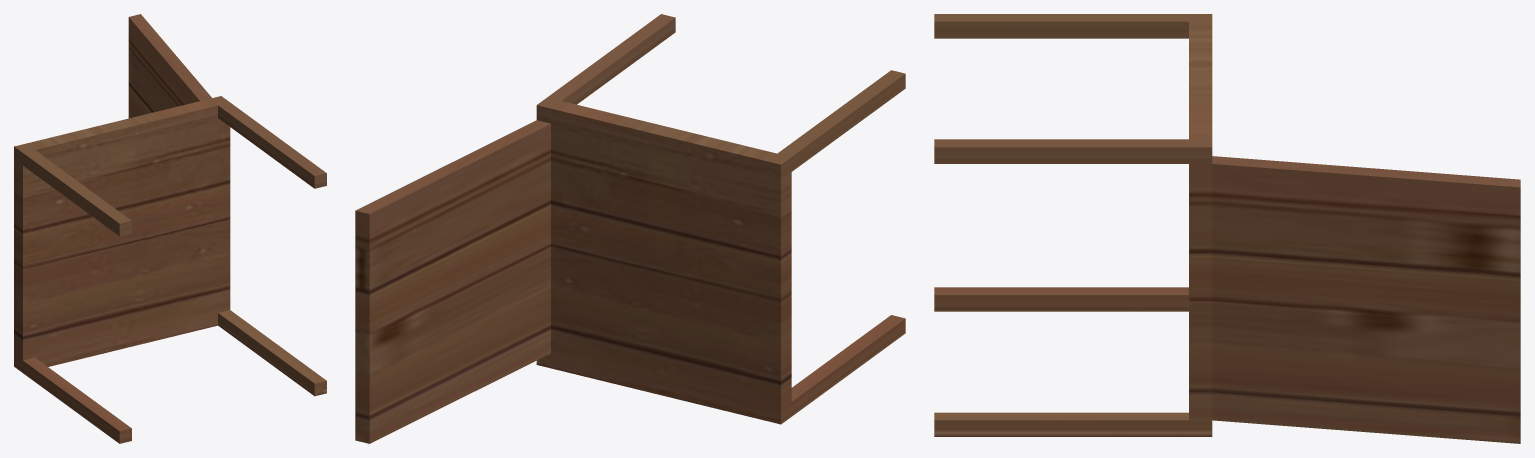
File: store-wood-chair.fbx
The picture shows the model from 3 angles, left to right: view 1: azimuth 30°, elevation 25°; view 2: azimuth 150°, elevation 25°; view 3: azimuth 270°, elevation 25°; orthographic projection. The views are drawn at different scales.
Parts seen in each view (by area): view 1: store-wood-chair; view 2: store-wood-chair; view 3: store-wood-chair.
Boxes of the visible parts, x1,y1,x2,y2 form: store-wood-chair: (14, 14, 326, 443); store-wood-chair: (355, 14, 905, 443); store-wood-chair: (934, 14, 1520, 443).
Bounding box in the file's own units: 0.6178 × 0.5331 × 0.977.
